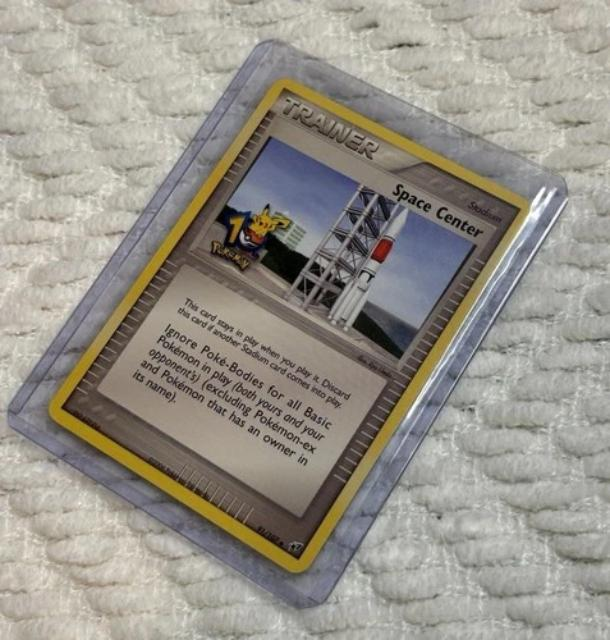Card: (43, 73, 537, 581)
Name: (387, 175, 494, 247)
